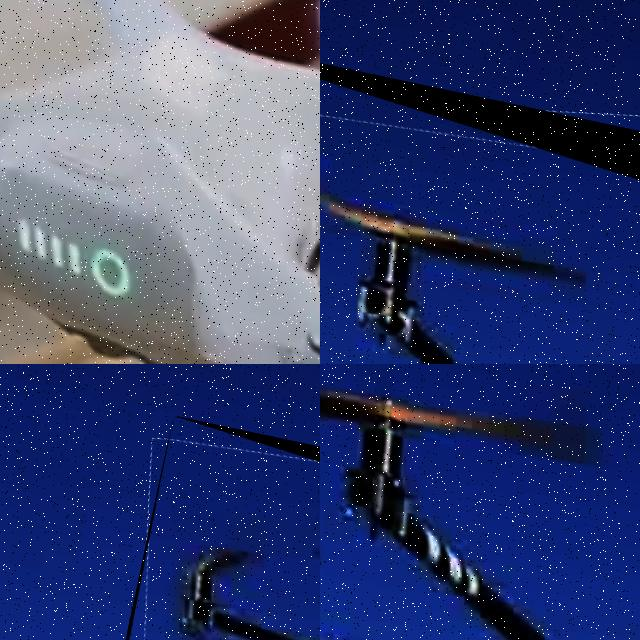0: (320, 29, 640, 364), (320, 364, 640, 640), (80, 415, 320, 640)
drone: (0, 0, 320, 364)
